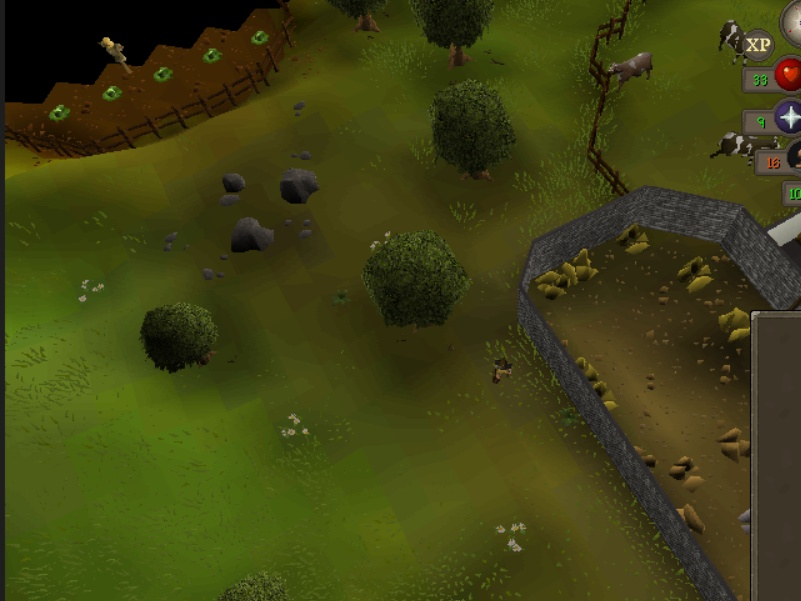clay: (664, 452, 712, 495), (712, 418, 751, 460)
gold: (562, 244, 601, 284), (614, 220, 653, 260), (676, 255, 715, 295), (716, 304, 755, 344), (533, 266, 573, 302)
